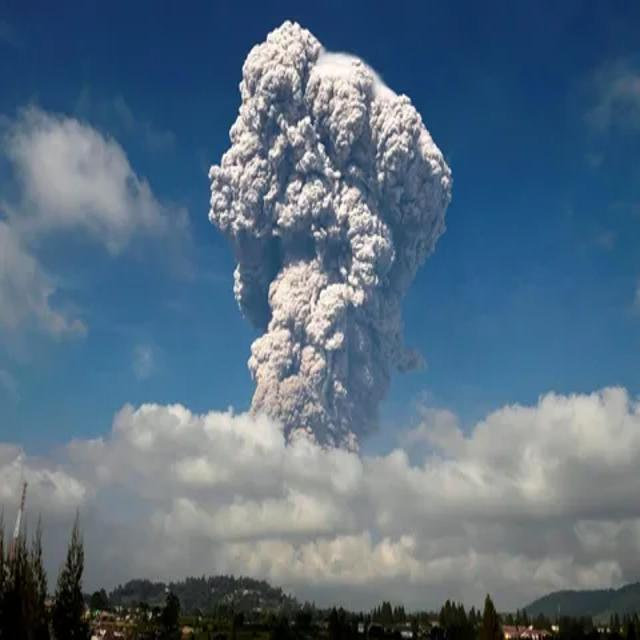Smoke: (208, 22, 451, 441)
